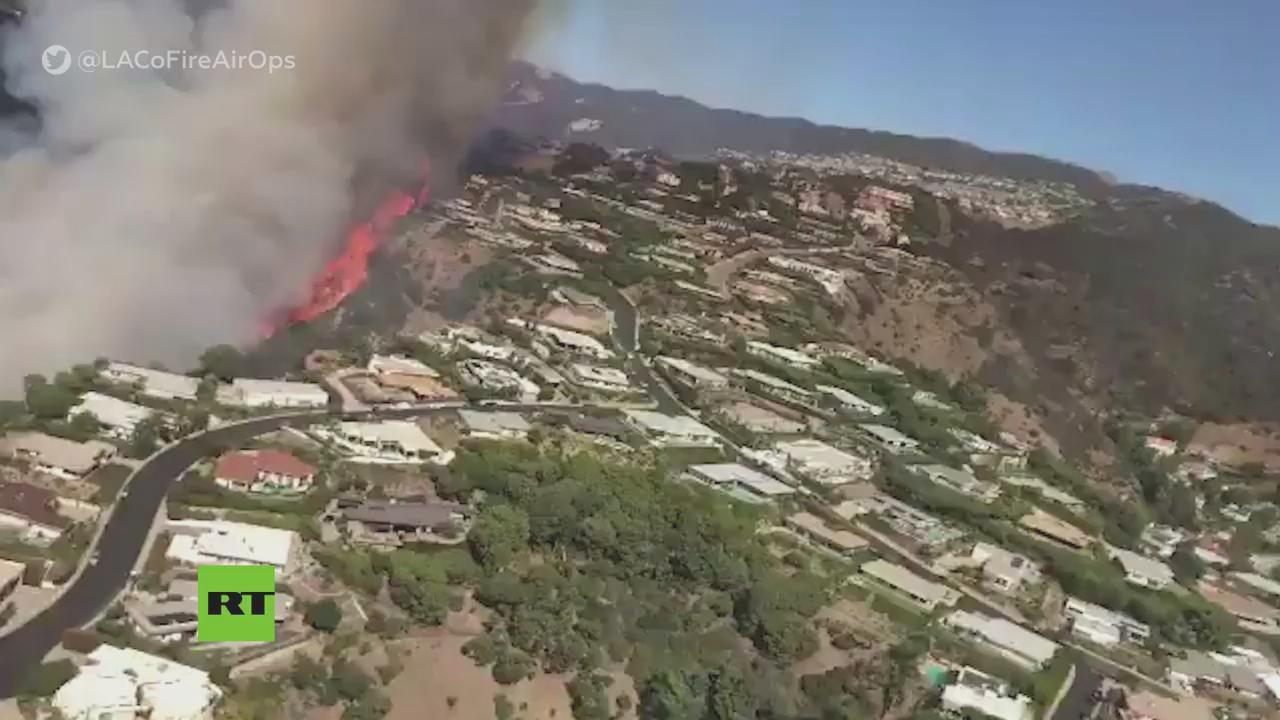fire: (267, 194, 419, 325)
